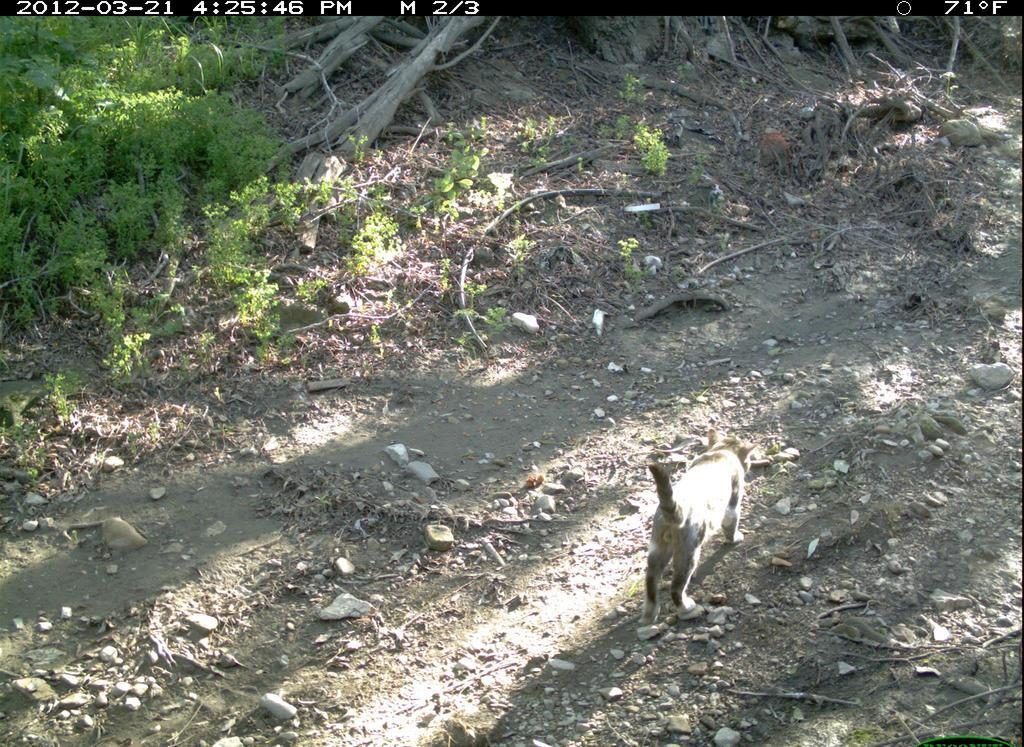cat: (635, 423, 763, 632)
